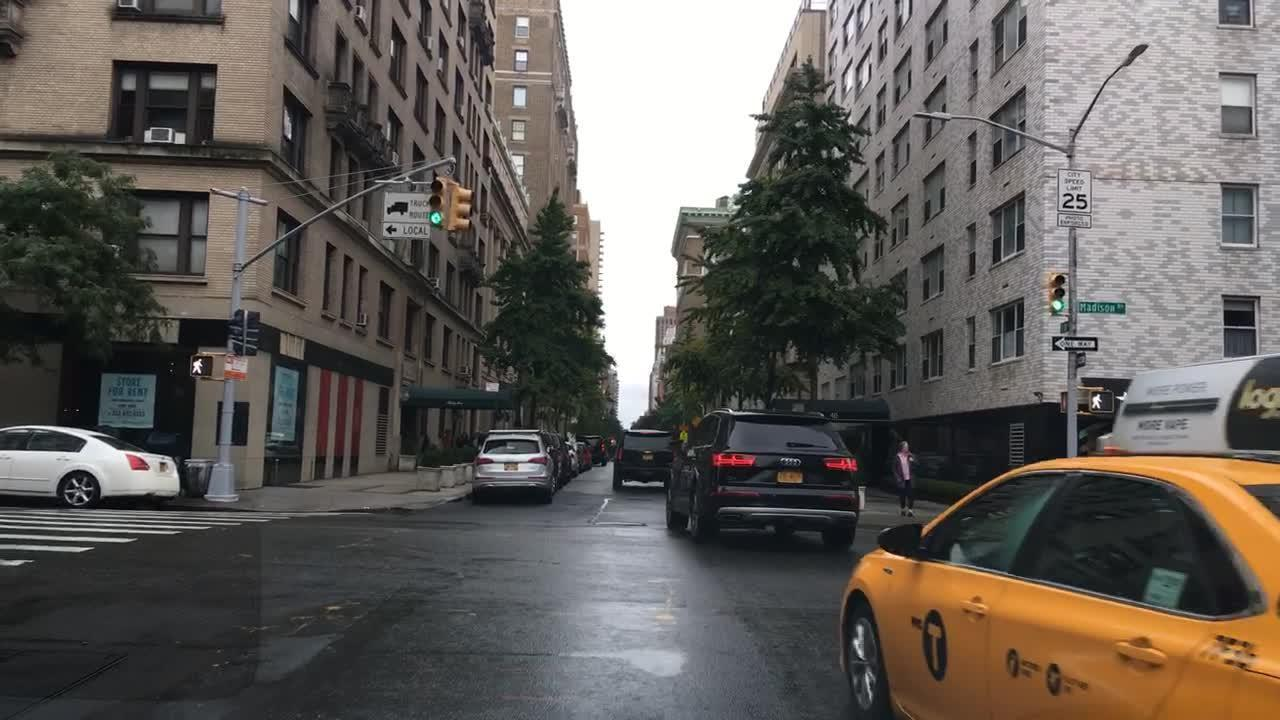Audi: (774, 451, 806, 472)
